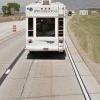Bus: (22, 4, 71, 62)
